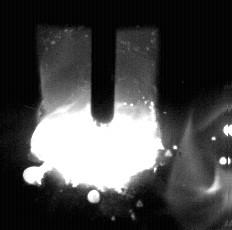arame: (93, 0, 117, 126)
poca: (30, 0, 161, 230)
